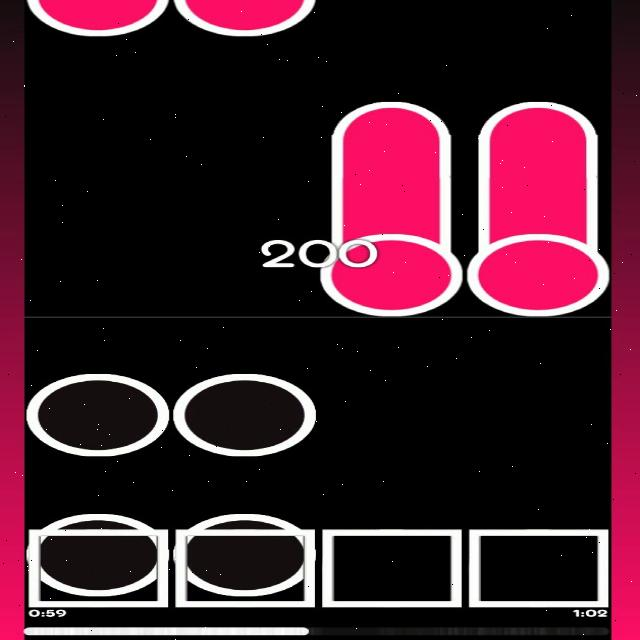end_hold: (480, 93, 597, 137), (334, 93, 448, 137)
note: (27, 370, 170, 458), (174, 370, 317, 457), (174, 512, 314, 597), (28, 512, 165, 596)
start_hold: (320, 199, 464, 318), (469, 202, 609, 318), (173, 0, 317, 38), (27, 0, 168, 36)
